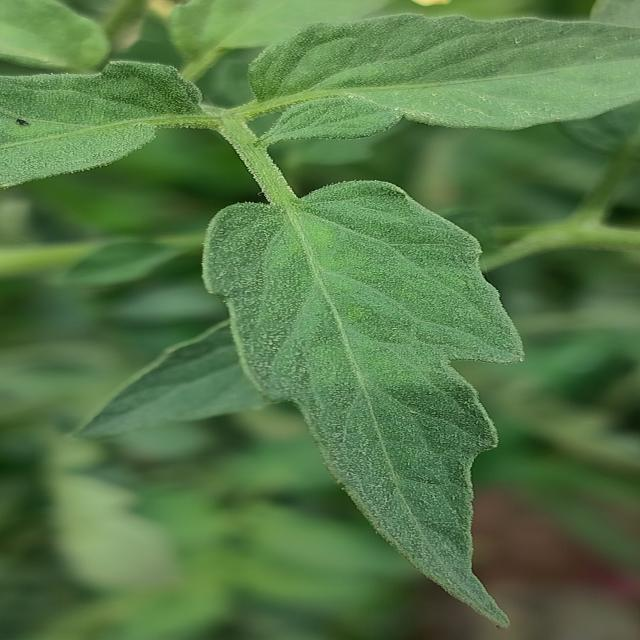tomato_healthy: (182, 184, 572, 635)
